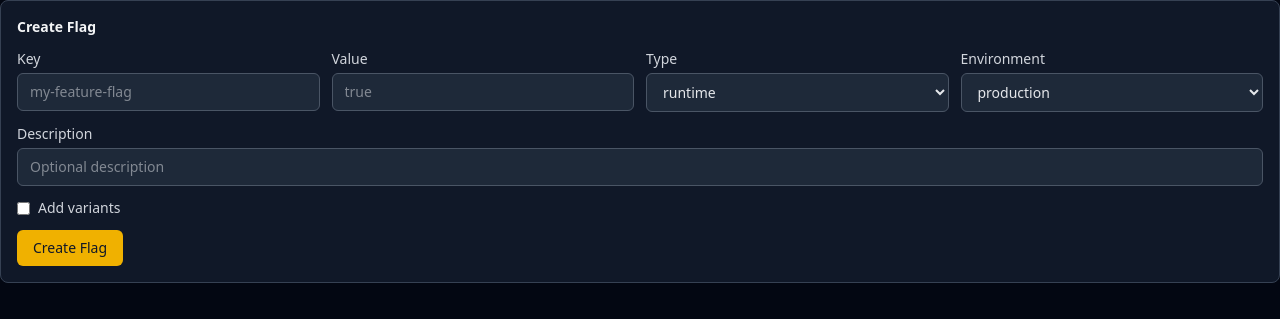
Scenario: CreateFlagForm › shows validation error for key with spaces
Type "has space" into the field labelled "Key" at [168, 92], box [17,73,320,111]
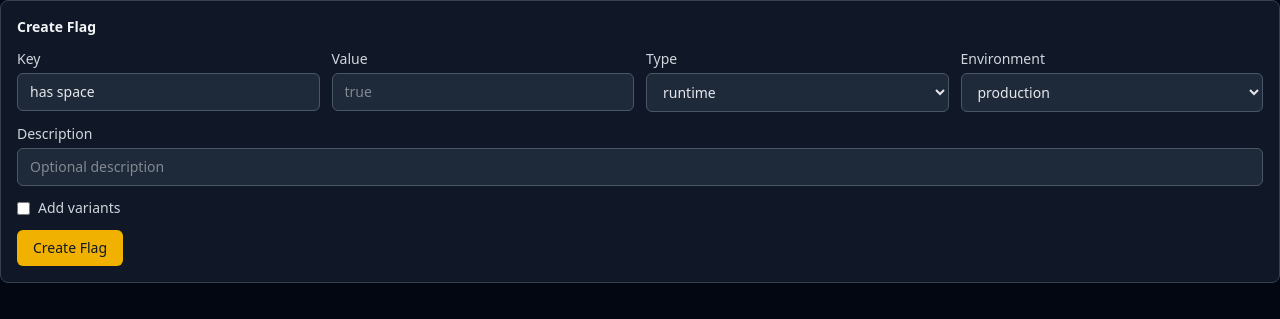
Leave the field labelled "Key", box [17,73,320,111]
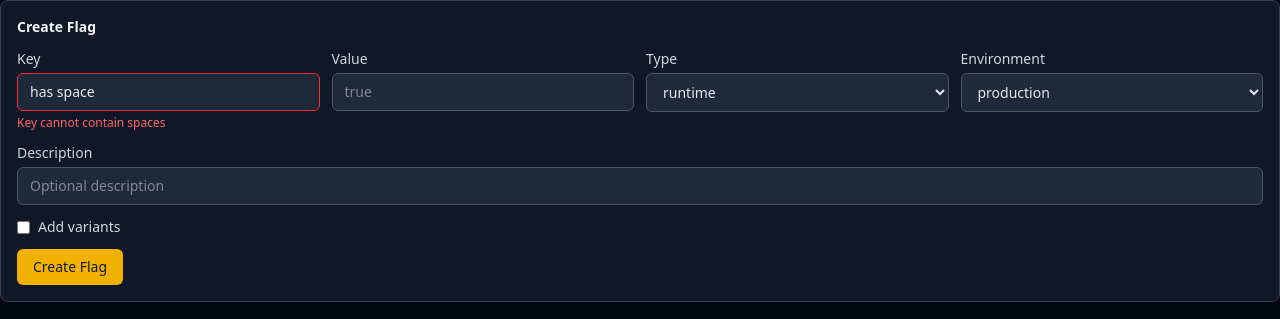
expect the list item "Key cannot contain spaces" is shown: met, box [17,114,166,131]
